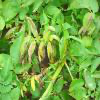Potato leaf late blight: (24, 14, 41, 40), (27, 40, 36, 64), (38, 40, 46, 64), (47, 40, 55, 64), (20, 42, 28, 65)
